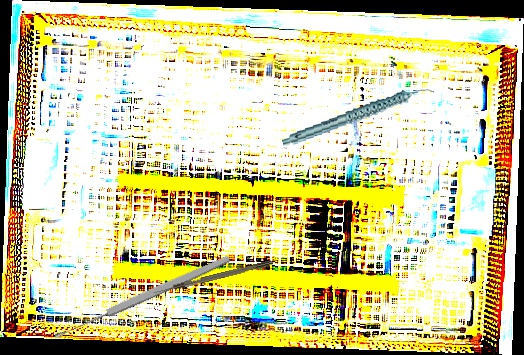Handpiece: (277, 85, 439, 148)
Hook Surgical: (152, 259, 274, 296)
Surgical Spoon: (52, 253, 232, 342)
